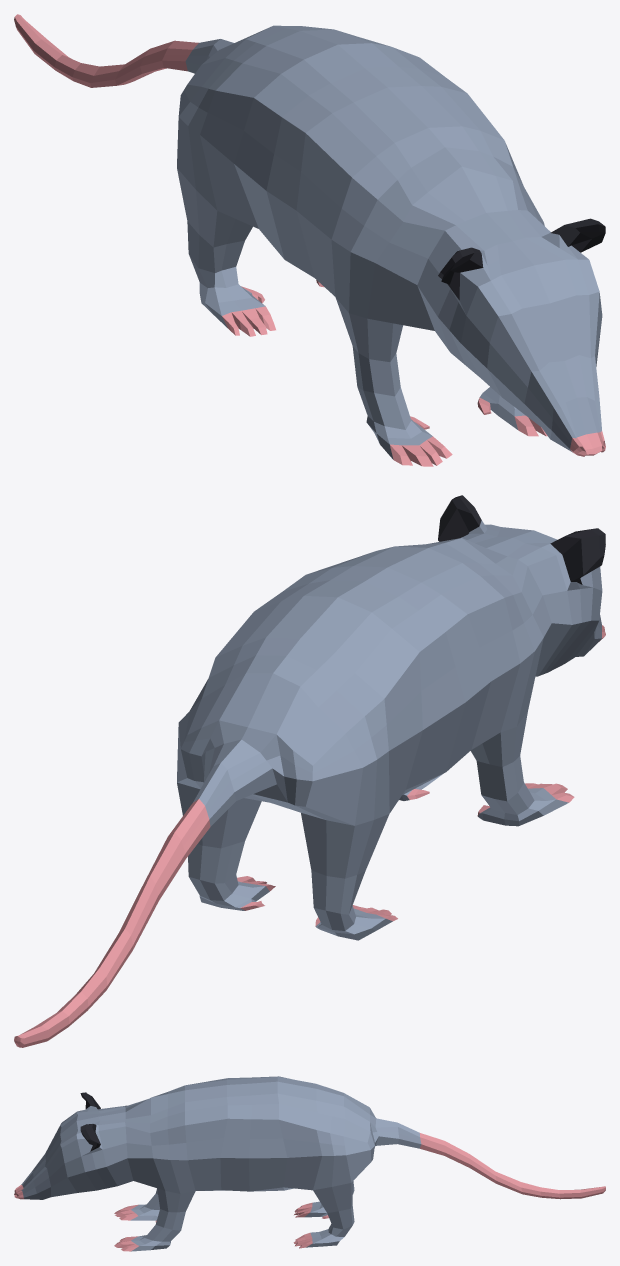
The model's file is opossum.glb.
3 renders of one model, top to bottom at view 1: azimuth 30°, elevation 25°; view 2: azimuth 150°, elevation 25°; view 3: azimuth 270°, elevation 25°, orthographic. The views are drawn at different scales.
Visible parts, largest first — view 1: Opossum; view 2: Opossum; view 3: Opossum.
Part boxes in pixels (box(x1,y1,x2,y2)): Opossum: box(14, 14, 605, 466); Opossum: box(14, 495, 605, 1047); Opossum: box(14, 1076, 605, 1251).
Bounding box in the file's own units: 1.71 × 2.38 × 8.58.
